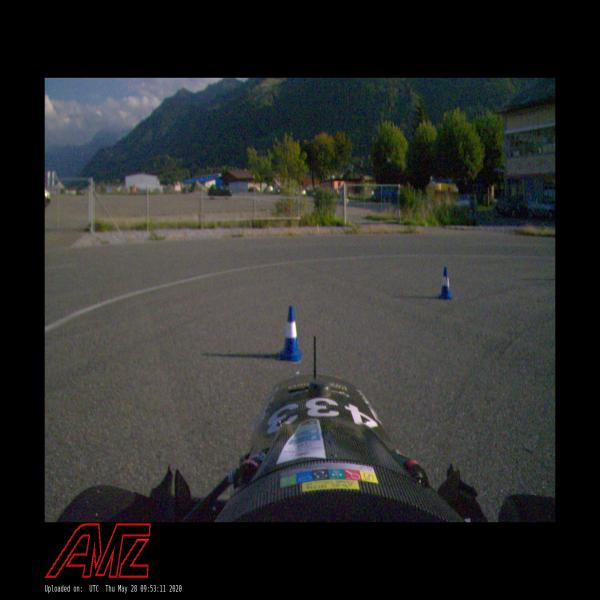blue_cone: (280, 306, 302, 362), (438, 266, 453, 300)
